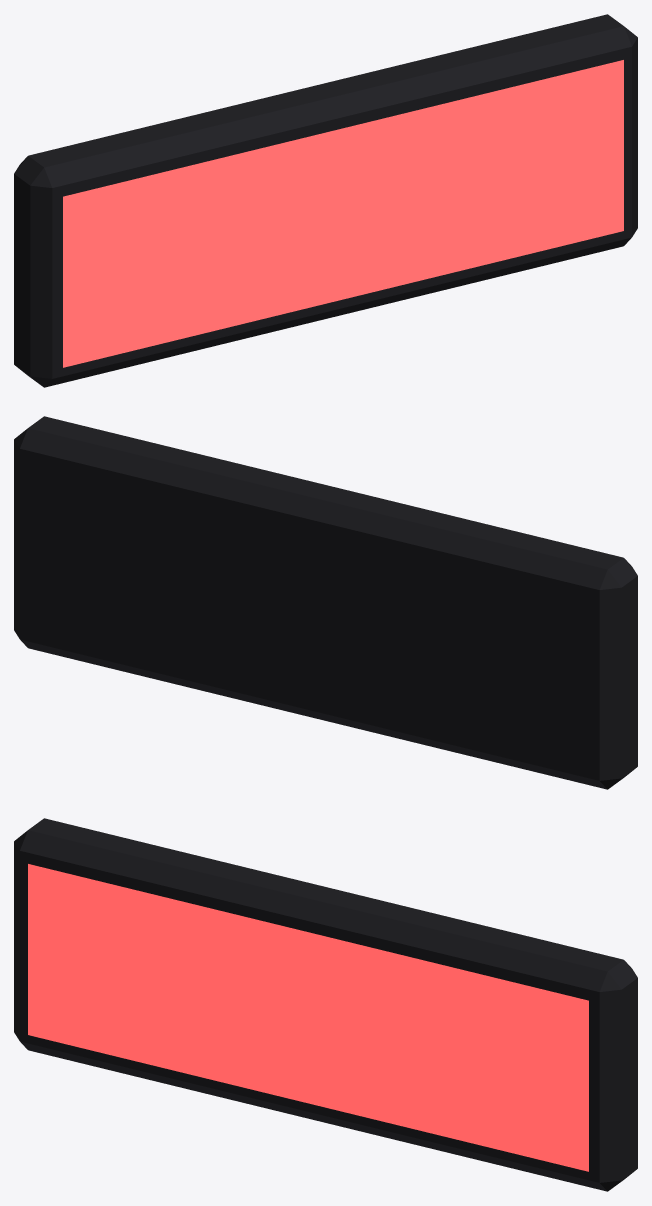
File: on_air_sign.fbx
3 views of the same model, one above another, from view 1: azimuth 30°, elevation 25°; view 2: azimuth 150°, elevation 25°; view 3: azimuth 330°, elevation 25° (orthographic).
Visible parts, largest first — view 1: on_air_sign; view 2: on_air_sign; view 3: on_air_sign.
Boxes of the visible parts, <box> form: on_air_sign: <box>14,14,637,387</box>; on_air_sign: <box>14,416,637,789</box>; on_air_sign: <box>14,818,637,1191</box>.
Size of the model in its own units: 1.3 by 0.45 by 0.125.
